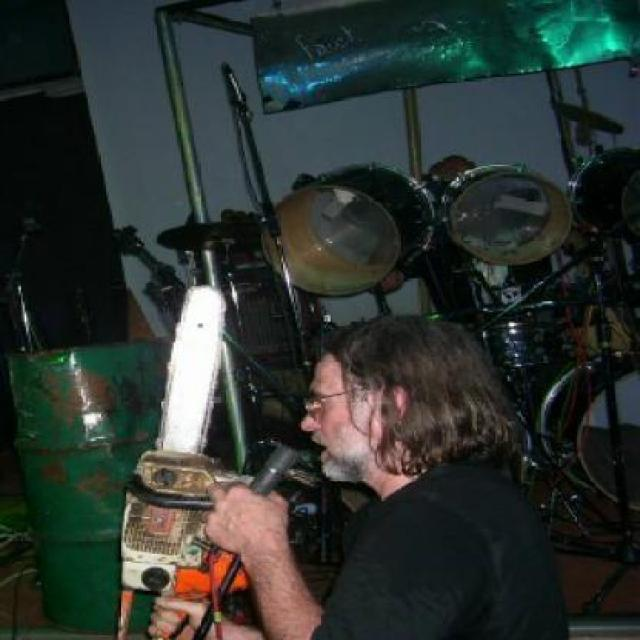Chainsaw: (106, 280, 260, 638)
